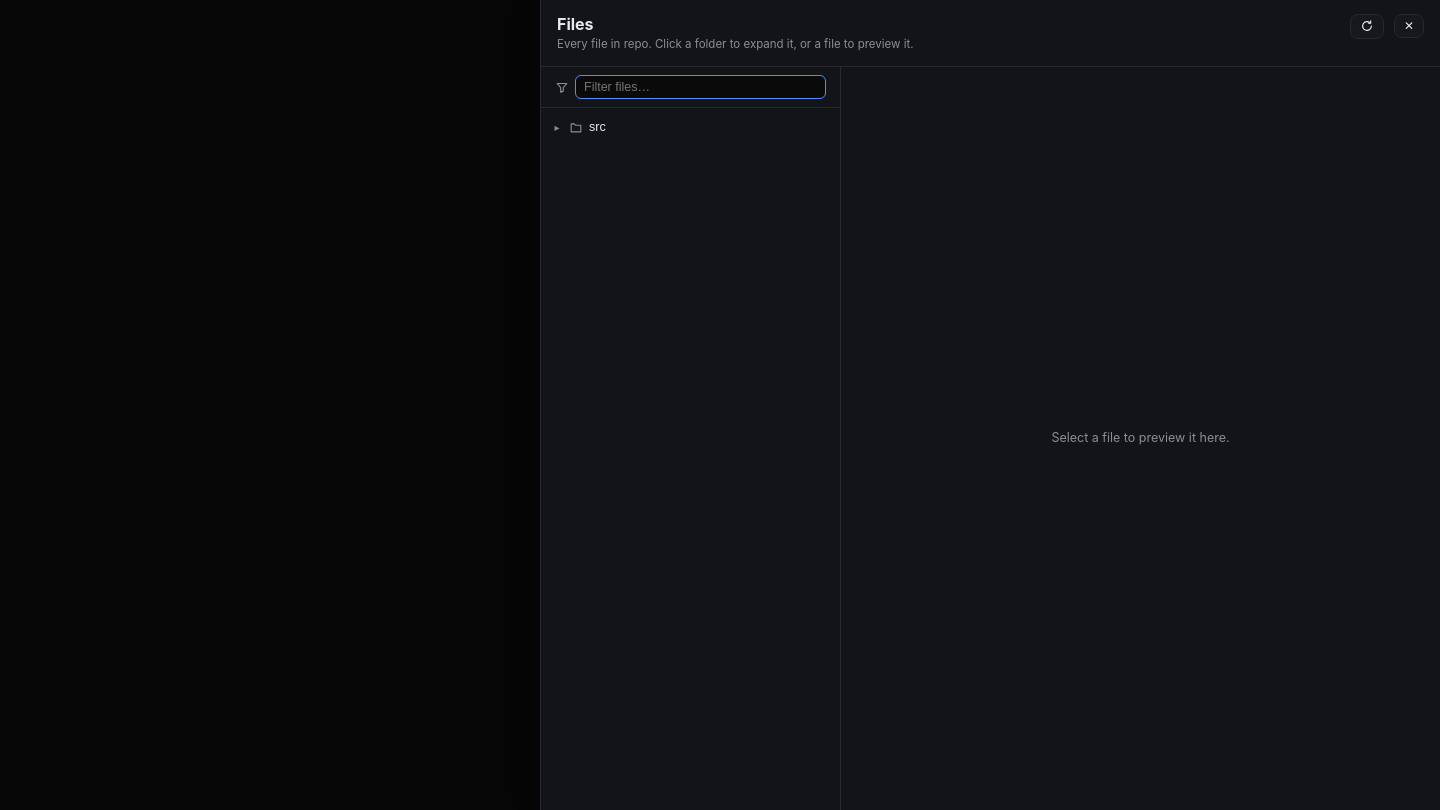
Test: FilesPanel › switches to flat fuzzy results while filtering
The width and height of the screenshot is (1440, 810).
Expected: the text "src" is shown, [589,120,606,134]
Type "widget" into the field labelled "Filter files" at x=700, y=87, box [575,75,826,99]
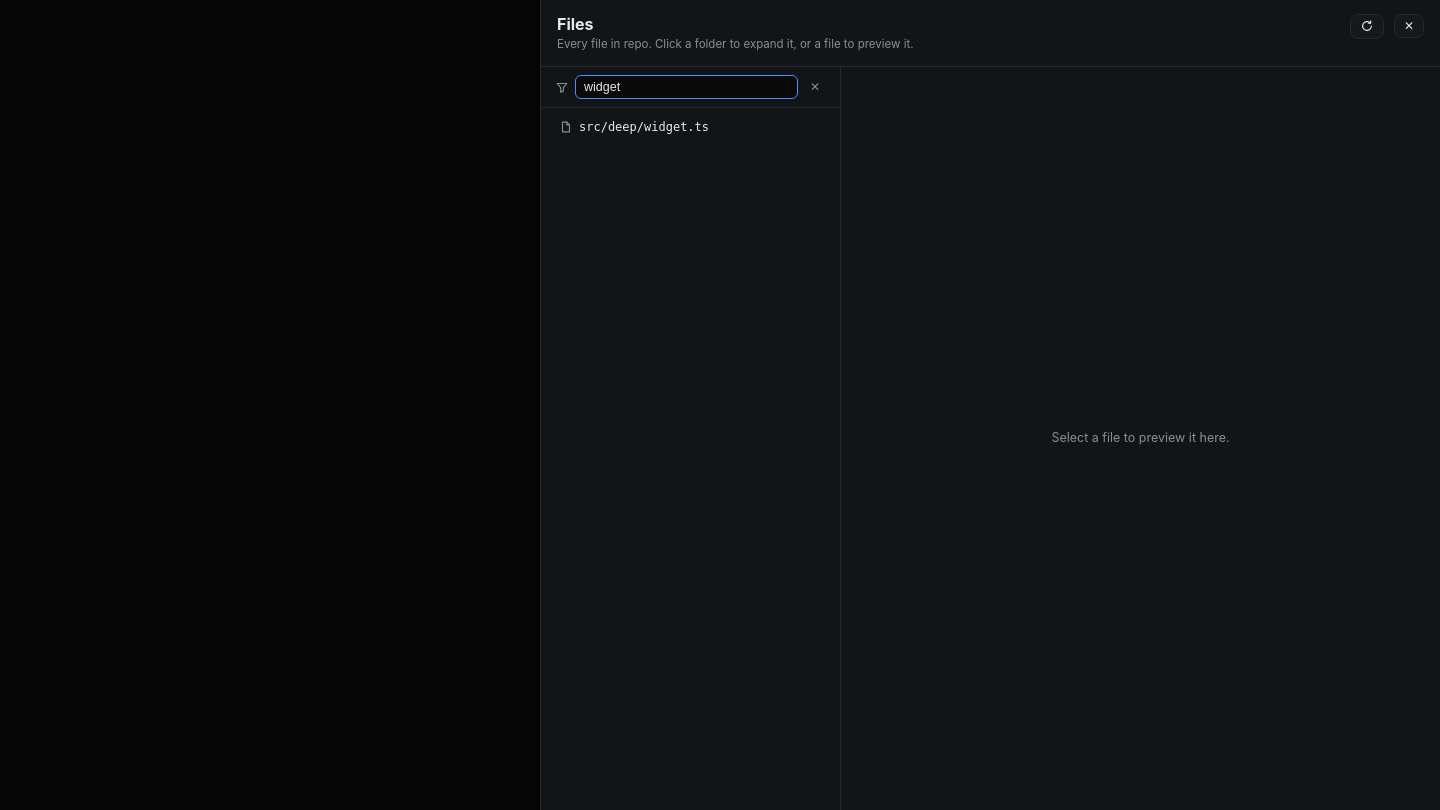
Result: the text "src/deep/widget.ts" is shown at [579,120,709,134]
